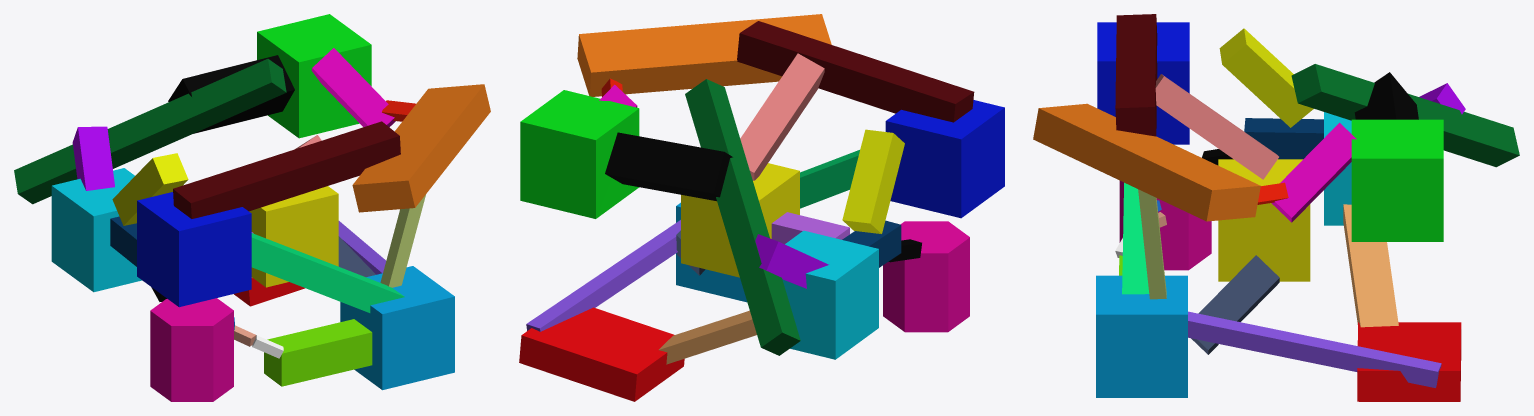
The model's file is планета 8.dae.
3 views of the same model, side by side, from view 1: azimuth 30°, elevation 25°; view 2: azimuth 150°, elevation 25°; view 3: azimuth 270°, elevation 25° (orthographic). The views are drawn at different scales.
Visible parts, largest first — view 1: Куб.017; view 2: Куб.017; view 3: Куб.017.
Boxes of the visible parts, x1,y1,x2,y2 form: Куб.017: (14,14,490,401); Куб.017: (519,14,1004,401); Куб.017: (1033,14,1519,401).
Size of the model in its own units: 9.96 by 10.58 by 6.93.
